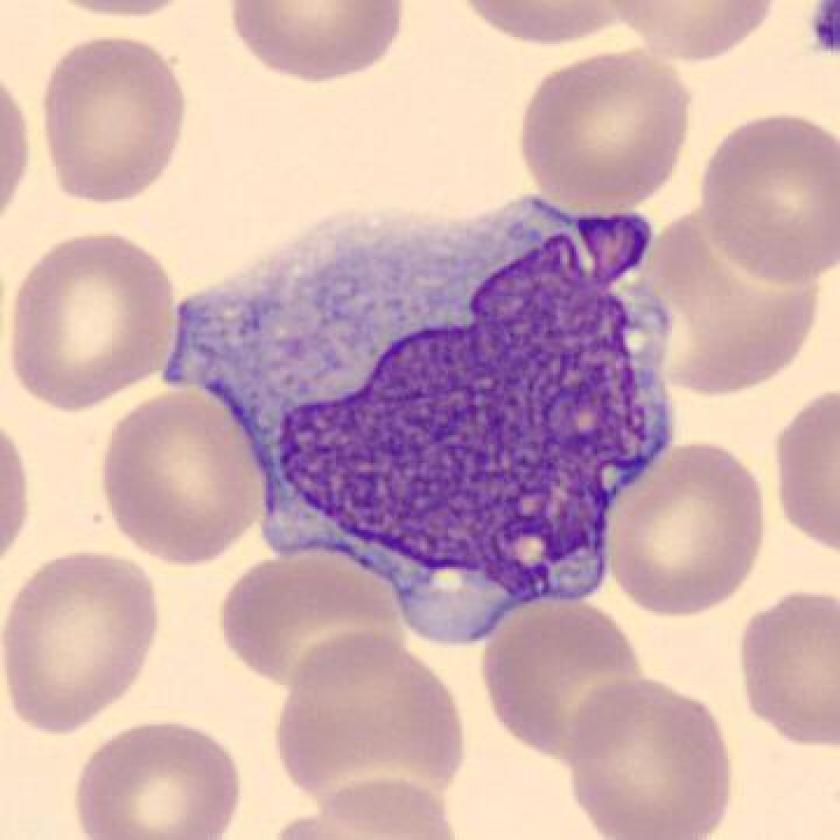monocyte: (153, 170, 687, 658)
